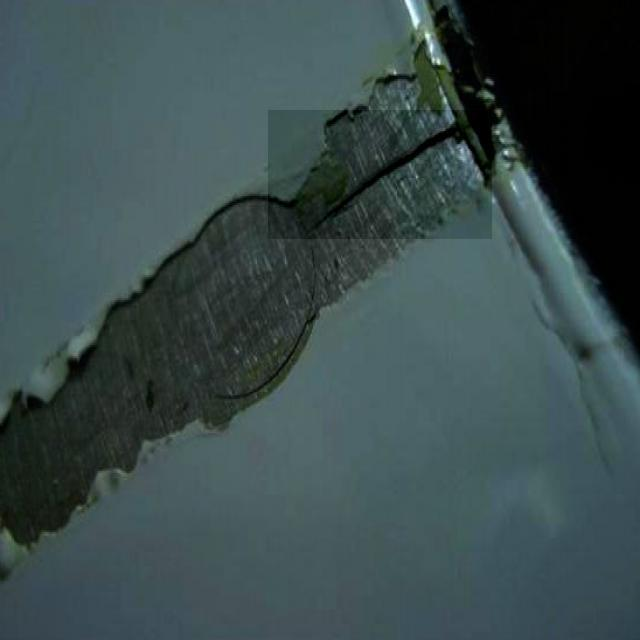crack: (269, 111, 493, 240)
